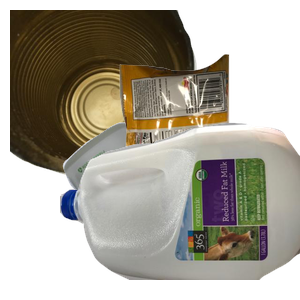glass: (60, 120, 300, 300)
metal: (10, 10, 200, 180)
plastic: (60, 120, 300, 300)
trash: (117, 52, 300, 193)
